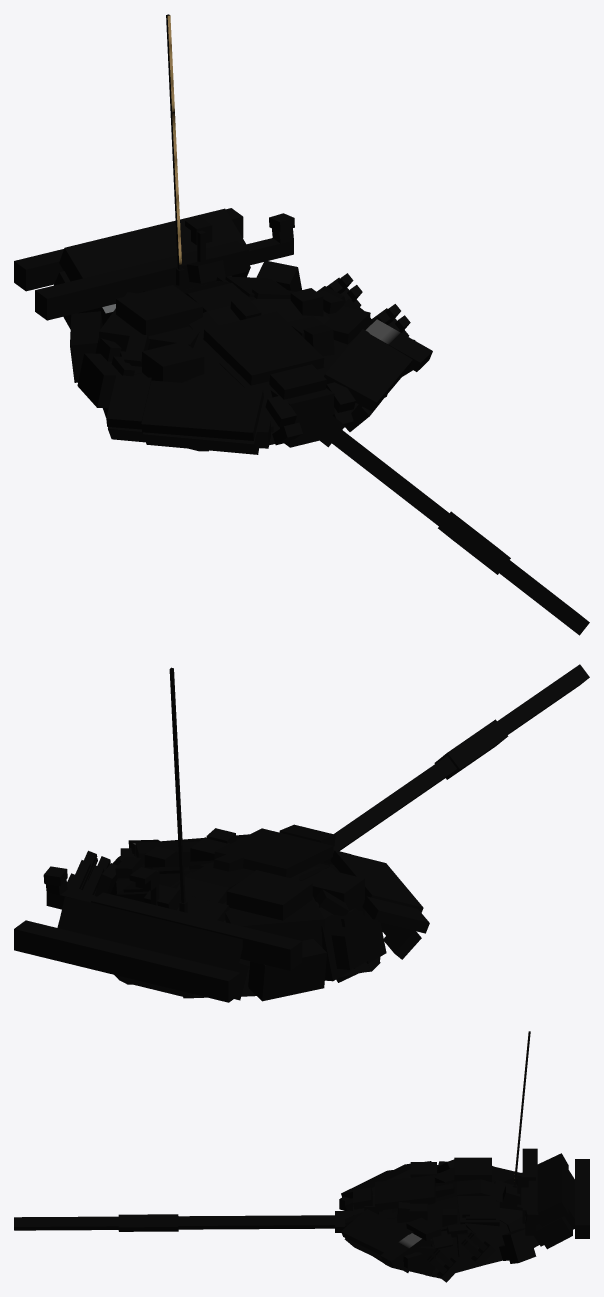
File: t64bv_turret.obj
The picture shows the model from 3 angles, top to bottom: view 1: azimuth 30°, elevation 25°; view 2: azimuth 150°, elevation 25°; view 3: azimuth 270°, elevation 25°; orthographic projection. The views are drawn at different scales.
Parts seen in each view (by area): view 1: turret, gun; view 2: turret, gun; view 3: turret, gun.
Boxes of the visible parts, bbox=[...] form: turret: bbox=[14, 14, 432, 454]; gun: bbox=[269, 364, 589, 635]; turret: bbox=[14, 667, 429, 1002]; gun: bbox=[279, 664, 589, 865]; turret: bbox=[339, 1031, 589, 1282]; gun: bbox=[14, 1187, 377, 1232].
Bounding box in the file's own units: 4.42 × 4.38 × 10.59.
